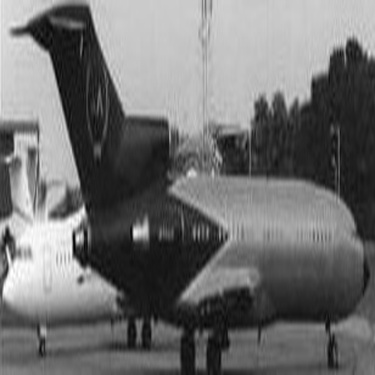airplane: (1, 5, 372, 373), (1, 124, 198, 358)
